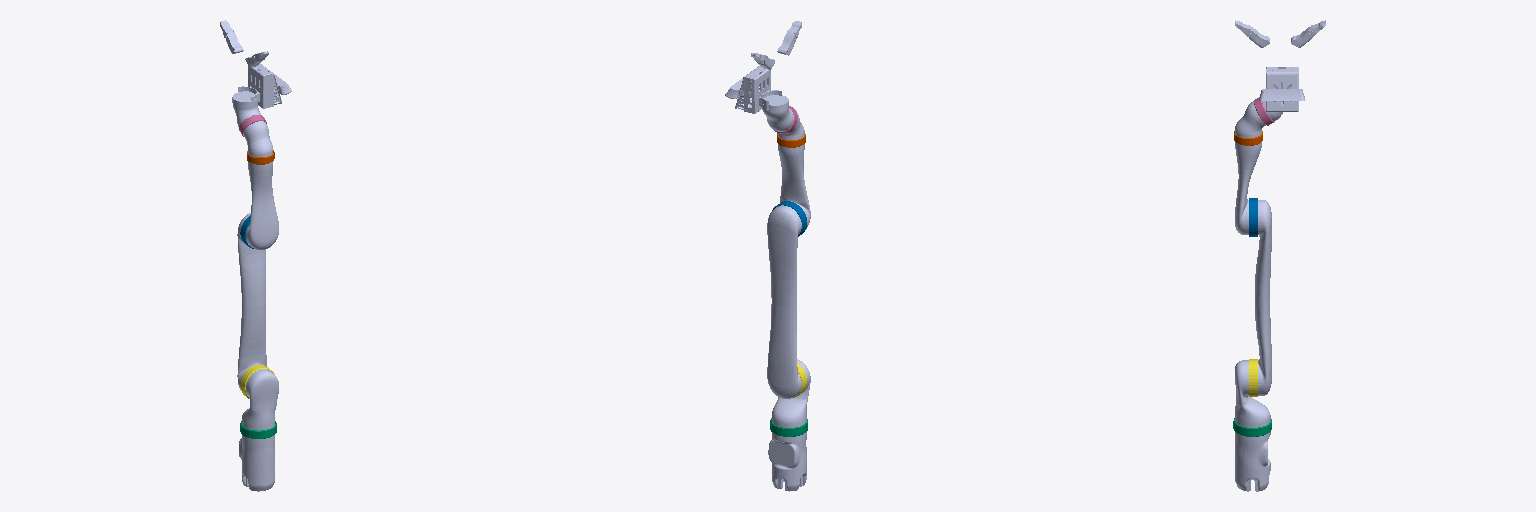
The robot description file, URDF, robot "j2n6s200":
<?xml version="1.0" ?>
<!-- =================================================================================== -->
<!-- |    This document was autogenerated by xacro from robots/j2n6s200_standalone.xacro | -->
<!-- |    EDITING THIS FILE BY HAND IS NOT RECOMMENDED                                 | -->
<!-- =================================================================================== -->
<!-- j2n6s200 refers to jaco v2 6DOF non-spherical 2fingers -->
<robot name="j2n6s200" xmlns:body="http://playerstage.sourceforge.net/gazebo/xmlschema/#body" xmlns:controller="http://playerstage.sourceforge.net/gazebo/xmlschema/#controller" xmlns:gazebo="http://playerstage.sourceforge.net/gazebo/xmlschema/#gz" xmlns:geom="http://playerstage.sourceforge.net/gazebo/xmlschema/#geom" xmlns:interface="http://playerstage.sourceforge.net/gazebo/xmlschema/#interface" xmlns:joint="http://playerstage.sourceforge.net/gazebo/xmlschema/#joint" xmlns:model="http://playerstage.sourceforge.net/gazebo/xmlschema/#model" xmlns:physics="http://playerstage.sourceforge.net/gazebo/xmlschema/#physics" xmlns:renderable="http://playerstage.sourceforge.net/gazebo/xmlschema/#renderable" xmlns:rendering="http://playerstage.sourceforge.net/gazebo/xmlschema/#rendering" xmlns:sensor="http://playerstage.sourceforge.net/gazebo/xmlschema/#sensor" xmlns:xi="http://www.w3.org/2001/XInclude">
  <!-- links      		mesh_no
   base           		0
   shoulder       		1
   arm            		2
   forearm        		3
   wrist          		4
   wrist_spherical_1  8
   wrist_spherical_2  9

   hand_2finger   		56
   finger_proximal		57
   finger_distal      58 
-->
  <!-- links      		mesh_no
   base           		0
   shoulder       		1
   arm            		2
   forearm        		3
   wrist          		4
   wrist_spherical_1  8
   wrist_spherical_2  9

   hand_2finger   		56
   finger_proximal		57
   finger_distal      58 
-->
  <link name="world"/>
  <!--xacro:gazebo_config robot_namespace="${prefix}"/-->
  <link name="j2n6s200_link_base">
    <visual>
      <geometry>
        <mesh filename="package://ada_description/meshes/base.dae"/>
      </geometry>
      <material name="carbon_fiber">
        <color rgba="0.792156862745098 0.819607843137255 0.933333333333333 1"/>
      </material>
    </visual>
    <collision>
      <geometry>
        <mesh filename="package://ada_description/meshes/collision_base.dae"/>
      </geometry>
    </collision>
    <inertial>
      <mass value="0.46784"/>
      <origin rpy="0 0 0" xyz="0 0 0.1255"/>
      <inertia ixx="0.000951270861568" ixy="0" ixz="0" iyy="0.000951270861568" iyz="0" izz="0.00037427200000000004"/>
    </inertial>
  </link>
  <joint name="j2n6s200_joint_base" type="fixed">
    <parent link="world"/>
    <child link="j2n6s200_link_base"/>
    <axis xyz="0 0 0"/>
    <limit effort="2000" lower="0" upper="0" velocity="1.0"/>
    <origin rpy="0 0 0" xyz="0 0 0"/>
    <dynamics damping="0.0" friction="0.0"/>
  </joint>
  <link name="j2n6s200_link_1">
    <visual>
      <geometry>
        <mesh filename="package://ada_description/meshes/shoulder.dae"/>
      </geometry>
      <material name="carbon_fiber">
        <color rgba="0.792156862745098 0.819607843137255 0.933333333333333 1"/>
      </material>
    </visual>
    <visual>
      <geometry>
        <mesh filename="package://ada_description/meshes/ring_big.dae"/>
      </geometry>
    </visual>
    <collision>
      <geometry>
        <mesh filename="package://ada_description/meshes/collision_shoulder.dae"/>
      </geometry>
    </collision>
    <inertial>
      <mass value="0.7477"/>
      <origin xyz="0 -0.002 -0.0605"/>
      <inertia ixx="0.0015203172520400004" ixy="0" ixz="0" iyy="0.0015203172520400004" iyz="0" izz="0.00059816"/>
    </inertial>
  </link>
  <joint name="j2n6s200_joint_1" type="continuous">
    <parent link="j2n6s200_link_base"/>
    <child link="j2n6s200_link_1"/>
    <axis xyz="0 0 1"/>
    <limit effort="2000" lower="-6.283185307179586" upper="6.283185307179586" velocity="1.0"/>
    <origin rpy="0 3.141592653589793 0" xyz="0 0 0.15675"/>
    <dynamics damping="0.0" friction="0.0"/>
  </joint>
  <transmission name="j2n6s200_joint_1_trans">
    <type>transmission_interface/SimpleTransmission</type>
    <joint name="j2n6s200_joint_1">
      <hardwareInterface>EffortJointInterface</hardwareInterface>
    </joint>
    <actuator name="j2n6s200_joint_1_actuator">
      <hardwareInterface>EffortJointInterface</hardwareInterface>
      <mechanicalReduction>160</mechanicalReduction>
    </actuator>
  </transmission>
  <link name="j2n6s200_link_2">
    <visual>
      <geometry>
        <mesh filename="package://ada_description/meshes/arm.dae"/>
      </geometry>
      <material name="carbon_fiber">
        <color rgba="0.792156862745098 0.819607843137255 0.933333333333333 1"/>
      </material>
    </visual>
    <visual>
      <geometry>
        <mesh filename="package://ada_description/meshes/ring_big.dae"/>
      </geometry>
    </visual>
    <collision>
      <geometry>
        <mesh filename="package://ada_description/meshes/collision_arm.dae"/>
      </geometry>
    </collision>
    <inertial>
      <mass value="0.99"/>
      <origin xyz="0 -0.2065 -0.01"/>
      <inertia ixx="0.010502207990999999" ixy="0" ixz="0" iyy="0.0007920000000000001" iyz="0" izz="0.010502207990999999"/>
    </inertial>
  </link>
  <joint name="j2n6s200_joint_2" type="revolute">
    <parent link="j2n6s200_link_1"/>
    <child link="j2n6s200_link_2"/>
    <axis xyz="0 0 1"/>
    <limit effort="2000" lower="0.8203047484373349" upper="5.462880558742252" velocity="1.0"/>
    <origin rpy="-1.5707963267948966 0 3.141592653589793" xyz="0 0.0016 -0.11875"/>
    <dynamics damping="0.0" friction="0.0"/>
  </joint>
  <transmission name="j2n6s200_joint_2_trans">
    <type>transmission_interface/SimpleTransmission</type>
    <joint name="j2n6s200_joint_2">
      <hardwareInterface>EffortJointInterface</hardwareInterface>
    </joint>
    <actuator name="j2n6s200_joint_2_actuator">
      <hardwareInterface>EffortJointInterface</hardwareInterface>
      <mechanicalReduction>160</mechanicalReduction>
    </actuator>
  </transmission>
  <link name="j2n6s200_link_3">
    <visual>
      <geometry>
        <mesh filename="package://ada_description/meshes/forearm.dae"/>
      </geometry>
      <material name="carbon_fiber">
        <color rgba="0.792156862745098 0.819607843137255 0.933333333333333 1"/>
      </material>
    </visual>
    <visual>
      <geometry>
        <mesh filename="package://ada_description/meshes/ring_big.dae"/>
      </geometry>
    </visual>
    <collision>
      <geometry>
        <mesh filename="package://ada_description/meshes/collision_forearm.dae"/>
      </geometry>
    </collision>
    <inertial>
      <mass value="0.6763"/>
      <origin xyz="0 0.081 -0.0086"/>
      <inertia ixx="0.0014202243190800001" ixy="0" ixz="0" iyy="0.000304335" iyz="0" izz="0.0014202243190800001"/>
    </inertial>
  </link>
  <joint name="j2n6s200_joint_3" type="revolute">
    <parent link="j2n6s200_link_2"/>
    <child link="j2n6s200_link_3"/>
    <axis xyz="0 0 1"/>
    <limit effort="2000" lower="0.33161255787892263" upper="5.951572749300664" velocity="1.0"/>
    <origin rpy="0 3.141592653589793 0" xyz="0 -0.410 0"/>
    <dynamics damping="0.0" friction="0.0"/>
  </joint>
  <transmission name="j2n6s200_joint_3_trans">
    <type>transmission_interface/SimpleTransmission</type>
    <joint name="j2n6s200_joint_3">
      <hardwareInterface>EffortJointInterface</hardwareInterface>
    </joint>
    <actuator name="j2n6s200_joint_3_actuator">
      <hardwareInterface>EffortJointInterface</hardwareInterface>
      <mechanicalReduction>160</mechanicalReduction>
    </actuator>
  </transmission>
  <link name="j2n6s200_link_4">
    <visual>
      <geometry>
        <mesh filename="package://ada_description/meshes/wrist.dae"/>
      </geometry>
      <material name="carbon_fiber">
        <color rgba="0.792156862745098 0.819607843137255 0.933333333333333 1"/>
      </material>
    </visual>
    <visual>
      <geometry>
        <mesh filename="package://ada_description/meshes/ring_small.dae"/>
      </geometry>
    </visual>
    <collision>
      <geometry>
        <mesh filename="package://ada_description/meshes/collision_wrist.dae"/>
      </geometry>
    </collision>
    <inertial>
      <mass value="0.1785"/>
      <origin xyz="0 -0.037 -0.0642"/>
      <inertia ixx="7.734969059999999e-05" ixy="0" ixz="0" iyy="7.734969059999999e-05" iyz="0" izz="0.0001428"/>
    </inertial>
  </link>
  <joint name="j2n6s200_joint_4" type="continuous">
    <parent link="j2n6s200_link_3"/>
    <child link="j2n6s200_link_4"/>
    <axis xyz="0 0 1"/>
    <limit effort="2000" lower="-6.283185307179586" upper="6.283185307179586" velocity="1.0"/>
    <origin rpy="-1.5707963267948966 0 3.141592653589793" xyz="0 0.2073 -0.0114"/>
    <dynamics damping="0.0" friction="0.0"/>
  </joint>
  <transmission name="j2n6s200_joint_4_trans">
    <type>transmission_interface/SimpleTransmission</type>
    <joint name="j2n6s200_joint_4">
      <hardwareInterface>EffortJointInterface</hardwareInterface>
    </joint>
    <actuator name="j2n6s200_joint_4_actuator">
      <hardwareInterface>EffortJointInterface</hardwareInterface>
      <mechanicalReduction>160</mechanicalReduction>
    </actuator>
  </transmission>
  <link name="j2n6s200_link_5">
    <visual>
      <geometry>
        <mesh filename="package://ada_description/meshes/wrist.dae"/>
      </geometry>
      <material name="carbon_fiber">
        <color rgba="0.792156862745098 0.819607843137255 0.933333333333333 1"/>
      </material>
    </visual>
    <visual>
      <geometry>
        <mesh filename="package://ada_description/meshes/ring_small.dae"/>
      </geometry>
    </visual>
    <collision>
      <geometry>
        <mesh filename="package://ada_description/meshes/collision_wrist.dae"/>
      </geometry>
    </collision>
    <inertial>
      <mass value="0.1785"/>
      <origin xyz="0 -0.037 -0.0642"/>
      <inertia ixx="7.734969059999999e-05" ixy="0" ixz="0" iyy="7.734969059999999e-05" iyz="0" izz="0.0001428"/>
    </inertial>
  </link>
  <joint name="j2n6s200_joint_5" type="continuous">
    <parent link="j2n6s200_link_4"/>
    <child link="j2n6s200_link_5"/>
    <axis xyz="0 0 1"/>
    <limit effort="2000" lower="-6.283185307179586" upper="6.283185307179586" velocity="1.0"/>
    <origin rpy="1.0471975511965976 0 3.141592653589793" xyz="0 -0.03703 -0.06414"/>
    <dynamics damping="0.0" friction="0.0"/>
  </joint>
  <transmission name="j2n6s200_joint_5_trans">
    <type>transmission_interface/SimpleTransmission</type>
    <joint name="j2n6s200_joint_5">
      <hardwareInterface>EffortJointInterface</hardwareInterface>
    </joint>
    <actuator name="j2n6s200_joint_5_actuator">
      <hardwareInterface>EffortJointInterface</hardwareInterface>
      <mechanicalReduction>160</mechanicalReduction>
    </actuator>
  </transmission>
  <link name="j2n6s200_link_6">
    <visual>
      <geometry>
        <mesh filename="package://ada_description/meshes/hand_2finger.dae"/>
      </geometry>
      <material name="carbon_fiber">
        <color rgba="0.792156862745098 0.819607843137255 0.933333333333333 1"/>
      </material>
    </visual>
    <collision>
      <geometry>
        <mesh filename="package://ada_description/meshes/collision_hand_2finger.dae"/>
      </geometry>
    </collision>
    <inertial>
      <mass value="0.78"/>
      <origin xyz="0 0 -0.06"/>
      <inertia ixx="0.00037049851799999997" ixy="0" ixz="0" iyy="0.00037049851799999997" iyz="0" izz="0.0006240000000000001"/>
    </inertial>
  </link>
  <joint name="j2n6s200_joint_6" type="continuous">
    <parent link="j2n6s200_link_5"/>
    <child link="j2n6s200_link_6"/>
    <axis xyz="0 0 1"/>
    <limit effort="2000" lower="-6.283185307179586" upper="6.283185307179586" velocity="1.0"/>
    <origin rpy="1.0471975511965976 0 3.141592653589793" xyz="0 -0.03703 -0.06414"/>
    <dynamics damping="0.0" friction="0.0"/>
  </joint>
  <transmission name="j2n6s200_joint_6_trans">
    <type>transmission_interface/SimpleTransmission</type>
    <joint name="j2n6s200_joint_6">
      <hardwareInterface>EffortJointInterface</hardwareInterface>
    </joint>
    <actuator name="j2n6s200_joint_6_actuator">
      <hardwareInterface>EffortJointInterface</hardwareInterface>
      <mechanicalReduction>160</mechanicalReduction>
    </actuator>
  </transmission>
  <link name="j2n6s200_end_effector">
  </link>
  <joint name="j2n6s200_joint_end_effector" type="fixed">
    <parent link="j2n6s200_link_6"/>
    <child link="j2n6s200_end_effector"/>
    <axis xyz="0 0 0"/>
    <limit effort="2000" lower="0" upper="0" velocity="1"/>
    <origin rpy="3.141592653589793 0 0" xyz="0 0 -0.1600"/>
  </joint>
  <link name="j2n6s200_hand_tip">
  </link>
  <joint name="j2n6s200_joint_hand_tip" type="fixed">
    <parent link="j2n6s200_end_effector"/>
    <child link="j2n6s200_hand_tip"/>
    <axis xyz="0 0 0"/>
    <limit effort="2000" lower="0" upper="0" velocity="1"/>
    <origin rpy="0 0 0" xyz="0 0 0.0370"/>
  </joint>
  <link name="j2n6s200_hand_base">
  </link>
  <joint name="j2n6s200_joint_hand_base" type="fixed">
    <parent link="j2n6s200_link_6"/>
    <child link="j2n6s200_hand_base"/>
    <axis xyz="0 0 0"/>
    <limit effort="2000" lower="0" upper="0" velocity="1"/>
    <origin rpy="0 0 0" xyz="0 0 0"/>
  </joint>
  <link name="j2n6s200_link_finger_1">
    <visual>
      <geometry>
        <mesh filename="package://ada_description/meshes/finger_proximal.dae"/>
      </geometry>
      <material name="carbon_fiber">
        <color rgba="0.792156862745098 0.819607843137255 0.933333333333333 1"/>
      </material>
    </visual>
    <collision>
      <geometry>
        <mesh filename="package://ada_description/meshes/collision_finger_proximal.dae"/>
      </geometry>
    </collision>
    <inertial>
      <mass value="0.01"/>
      <origin xyz="0.022 0 0"/>
      <inertia ixx="7.8999684e-07" ixy="0" ixz="0" iyy="7.8999684e-07" iyz="0" izz="8e-08"/>
    </inertial>
  </link>
  <joint name="j2n6s200_joint_finger_1" type="revolute">
    <parent link="j2n6s200_hand_base"/>
    <child link="j2n6s200_link_finger_1"/>
    <axis xyz="0 0 1"/>
    <origin rpy="-1.570796327 .649262481663582 1.57079632679490" xyz="-0.0025 0.03095 -0.11482"/>
    <limit effort="2000" lower="0" upper="2" velocity="1"/>
  </joint>
  <transmission name="j2n6s200_joint_finger_1_trans">
    <type>transmission_interface/SimpleTransmission</type>
    <joint name="j2n6s200_joint_finger_1">
      <hardwareInterface>EffortJointInterface</hardwareInterface>
    </joint>
    <actuator name="j2n6s200_joint_finger_1_actuator">
      <hardwareInterface>EffortJointInterface</hardwareInterface>
      <mechanicalReduction>1</mechanicalReduction>
    </actuator>
  </transmission>
  <link name="j2n6s200_link_finger_tip_1">
    <visual>
      <geometry>
        <mesh filename="package://ada_description/meshes/finger_distal.dae"/>
      </geometry>
      <material name="carbon_fiber">
        <color rgba="0.792156862745098 0.819607843137255 0.933333333333333 1"/>
      </material>
    </visual>
    <collision>
      <geometry>
        <mesh filename="package://ada_description/meshes/collision_finger_distal.dae"/>
      </geometry>
    </collision>
    <inertial>
      <mass value="0.01"/>
      <origin xyz="0.022 0 0"/>
      <inertia ixx="7.8999684e-07" ixy="0" ixz="0" iyy="7.8999684e-07" iyz="0" izz="8e-08"/>
    </inertial>
  </link>
  <joint name="j2n6s200_joint_finger_tip_1" type="fixed">
    <parent link="j2n6s200_link_finger_1"/>
    <child link="j2n6s200_link_finger_tip_1"/>
    <axis xyz="0 0 1"/>
    <origin rpy="0 0 0" xyz="0.044 -0.003 0"/>
    <limit effort="0" lower="0" upper="2" velocity="1"/>
  </joint>
  <link name="j2n6s200_link_finger_2">
    <visual>
      <geometry>
        <mesh filename="package://ada_description/meshes/finger_proximal.dae"/>
      </geometry>
      <material name="carbon_fiber">
        <color rgba="0.792156862745098 0.819607843137255 0.933333333333333 1"/>
      </material>
    </visual>
    <collision>
      <geometry>
        <mesh filename="package://ada_description/meshes/collision_finger_proximal.dae"/>
      </geometry>
    </collision>
    <inertial>
      <mass value="0.01"/>
      <origin xyz="0.022 0 0"/>
      <inertia ixx="7.8999684e-07" ixy="0" ixz="0" iyy="7.8999684e-07" iyz="0" izz="8e-08"/>
    </inertial>
  </link>
  <joint name="j2n6s200_joint_finger_2" type="revolute">
    <parent link="j2n6s200_hand_base"/>
    <child link="j2n6s200_link_finger_2"/>
    <axis xyz="0 0 1"/>
    <origin rpy="-1.570796327 .649262481663582 -1.57079632679490" xyz="-0.0025 -0.03095 -0.11482"/>
    <limit effort="2000" lower="0" upper="2" velocity="1"/>
  </joint>
  <transmission name="j2n6s200_joint_finger_2_trans">
    <type>transmission_interface/SimpleTransmission</type>
    <joint name="j2n6s200_joint_finger_2">
      <hardwareInterface>EffortJointInterface</hardwareInterface>
    </joint>
    <actuator name="j2n6s200_joint_finger_2_actuator">
      <hardwareInterface>EffortJointInterface</hardwareInterface>
      <mechanicalReduction>1</mechanicalReduction>
    </actuator>
  </transmission>
  <link name="j2n6s200_link_finger_tip_2">
    <visual>
      <geometry>
        <mesh filename="package://ada_description/meshes/finger_distal.dae"/>
      </geometry>
      <material name="carbon_fiber">
        <color rgba="0.792156862745098 0.819607843137255 0.933333333333333 1"/>
      </material>
    </visual>
    <collision>
      <geometry>
        <mesh filename="package://ada_description/meshes/collision_finger_distal.dae"/>
      </geometry>
    </collision>
    <inertial>
      <mass value="0.01"/>
      <origin xyz="0.022 0 0"/>
      <inertia ixx="7.8999684e-07" ixy="0" ixz="0" iyy="7.8999684e-07" iyz="0" izz="8e-08"/>
    </inertial>
  </link>
  <joint name="j2n6s200_joint_finger_tip_2" type="fixed">
    <parent link="j2n6s200_link_finger_2"/>
    <child link="j2n6s200_link_finger_tip_2"/>
    <axis xyz="0 0 1"/>
    <origin rpy="0 0 0" xyz="0.044 -0.003 0"/>
    <limit effort="0" lower="0" upper="2" velocity="1"/>
  </joint>
  <!--xacro:j2n6s200  base_parent="${robot_root}" /-->
  <link name="j2n6s200_joule">
    <visual>
      <origin rpy="0 0 0" xyz="-0.014 -0.062 -0.023"/>
      <geometry>
        <mesh filename="package://ada_description/meshes/camera_joule.dae" scale="0.001 0.001 0.001"/>
        <!-- <mesh filename="package://ada_description/meshes/collision_camera_joule.dae" scale="0.001 0.001 0.00098"/> -->
      </geometry>
      <material name="carbon_fiber">
        <color rgba="0.792156862745098 0.819607843137255 0.933333333333333 1"/>
      </material>
    </visual>
    <collision>
      <origin rpy="0 0 0" xyz="-0.008 -0.055 0.01"/>
      <geometry>
        <mesh filename="package://ada_description/meshes/collision_camera_joule.dae" scale="0.0008 0.00076 0.0006"/>
      </geometry>
    </collision>
  </link>
  <joint name="j2n6s200_joule" type="fixed">
    <parent link="j2n6s200_link_6"/>
    <child link="j2n6s200_joule"/>
    <axis xyz="0 0 1"/>
    <limit effort="2000" lower="-6.28318530718" upper="6.28318530718" velocity="1"/>
    <origin rpy="1.57079632679 1.57079632679 0" xyz="0.06 0.051 0.0140"/>
    <dynamics damping="0.0" friction="0.0"/>
  </joint>
  <link name="j2n6s200_forque">
    <visual>
      <geometry>
        <mesh filename="package://ada_description/meshes/forque_kinova.dae" scale="0.001 0.001 0.001"/>
      </geometry>
      <material name="carbon_fiber">
        <color rgba="0.792156862745098 0.819607843137255 0.933333333333333 1"/>
      </material>
    </visual>
    <collision>
      <geometry>
        <mesh filename="package://ada_description/meshes/collision_forque_kinova.dae" scale="0.001 0.001 0.001"/>
      </geometry>
    </collision>
  </link>
  <joint name="j2n6s200_joint_forque" type="fixed">
    <parent link="j2n6s200_end_effector"/>
    <child link="j2n6s200_forque"/>
    <axis xyz="0 0 1"/>
    <origin rpy="3.14 0 0" xyz="-0.003 -0.0013 0.065"/>
    <limit effort="2000" lower="0" upper="2" velocity="1"/>
  </joint>
  <link name="j2n6s200_forque_end_effector">
  </link>
  <joint name="j2n6s200_joint_forque_end_effector" type="fixed">
    <parent link="j2n6s200_forque"/>
    <child link="j2n6s200_forque_end_effector"/>
    <axis xyz="0 0 0"/>
    <limit effort="2000" lower="0" upper="0" velocity="1"/>
    <origin rpy="3.1415 0 1.57075" xyz="0.007 0 -0.093"/>
  </joint>
  <link name="j2n6s200_forque_tip">
  </link>
  <joint name="j2n6s200_joint_forque_tip" type="fixed">
    <parent link="j2n6s200_forque"/>
    <child link="j2n6s200_forque_tip"/>
    <axis xyz="0 0 0"/>
    <limit effort="2000" lower="0" upper="0" velocity="1"/>
    <!-- Rotation consistent with pointers of forque: -->
    <origin rpy="2.6415 0 1.57075" xyz="0.007 0 -0.093"/>
  </joint>
</robot>

--- What the picture shows (computed from the rendered views, not written in the file) ---
Views: 3 orthographic renders of the robot side by side, from view 1: azimuth 30°, elevation 25°; view 2: azimuth 150°, elevation 25°; view 3: azimuth 270°, elevation 25°.
Model j2n6s200 with 19 links and 18 joints (4 revolute, 4 continuous, 10 fixed), rooted at world, posed all joints at 0 but 2 set to mid-range because 0 is outside their limits (j2n6s200_joint_2 = 3.14, j2n6s200_joint_3 = 3.14).
Links seen in each view (by area): view 1: j2n6s200_link_2, j2n6s200_link_3, j2n6s200_link_1, j2n6s200_link_base, j2n6s200_joule, j2n6s200_link_4, j2n6s200_link_5; view 2: j2n6s200_link_2, j2n6s200_link_base, j2n6s200_link_3, j2n6s200_link_1, j2n6s200_joule, j2n6s200_link_5; view 3: j2n6s200_link_2, j2n6s200_link_base, j2n6s200_link_1, j2n6s200_link_3, j2n6s200_joule, j2n6s200_link_4.
Link boxes in pixels (<box>): j2n6s200_link_2: <box>237,213,273,398</box>; j2n6s200_link_3: <box>240,162,278,249</box>; j2n6s200_link_1: <box>240,369,278,438</box>; j2n6s200_link_base: <box>239,435,274,491</box>; j2n6s200_joule: <box>238,64,291,108</box>; j2n6s200_link_4: <box>243,121,274,164</box>; j2n6s200_link_5: <box>232,91,266,136</box>; j2n6s200_link_2: <box>767,205,806,398</box>; j2n6s200_link_base: <box>768,432,806,491</box>; j2n6s200_link_3: <box>772,144,810,236</box>; j2n6s200_link_1: <box>770,359,810,436</box>; j2n6s200_joule: <box>725,66,781,113</box>; j2n6s200_link_5: <box>762,95,797,133</box>; j2n6s200_link_2: <box>1249,200,1271,396</box>; j2n6s200_link_base: <box>1235,432,1270,491</box>; j2n6s200_link_1: <box>1233,360,1271,436</box>; j2n6s200_link_3: <box>1235,142,1261,236</box>; j2n6s200_joule: <box>1259,67,1304,111</box>; j2n6s200_link_4: <box>1234,101,1265,145</box>.
Size in the robot's own frame: 0.1512 by 0.215 by 1.18 metres.
16 mesh visuals loaded from 12 distinct referenced files (10 Collada DAE); not drawn: 2 (reference not matched to a file when rendering).
